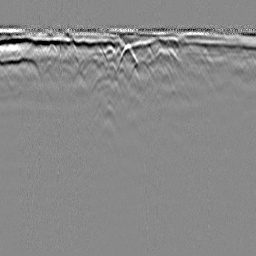cavity: (118, 41, 138, 67)
